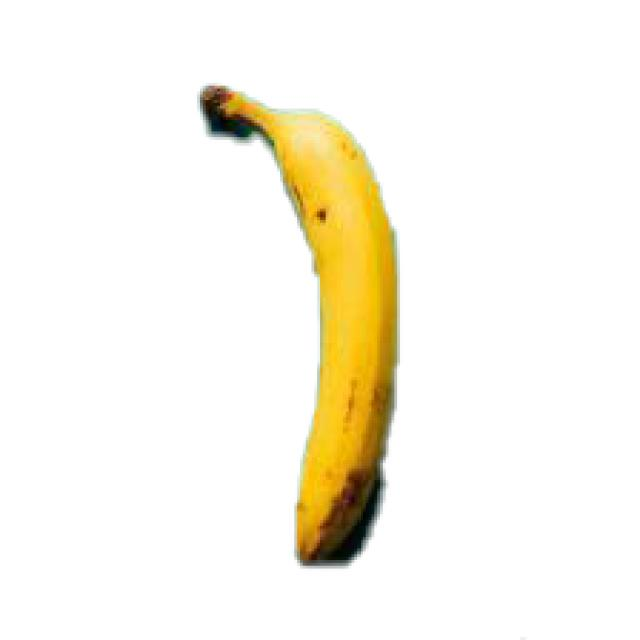fresh-banana: (194, 80, 400, 563)
